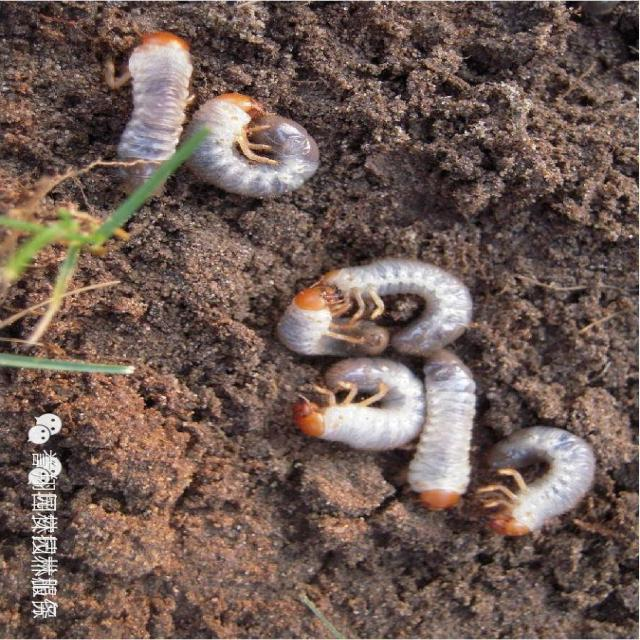grub: (289, 249, 473, 372), (106, 35, 199, 220), (488, 422, 601, 549), (195, 97, 319, 200), (409, 349, 486, 512), (304, 355, 424, 449)
